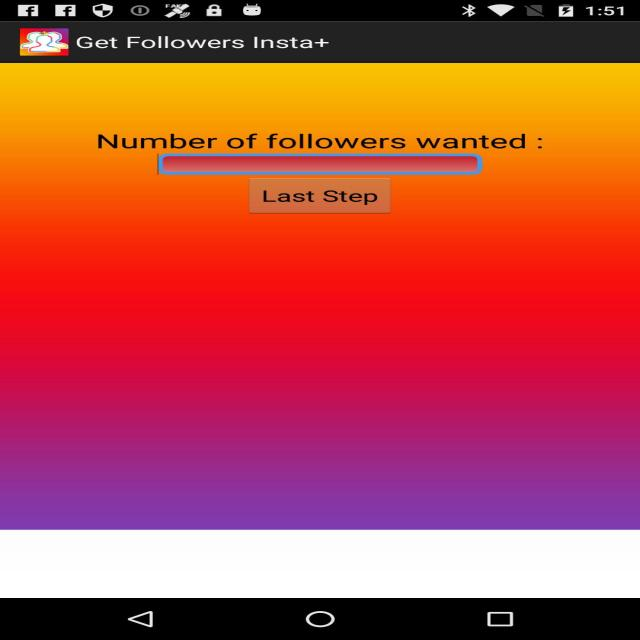button: (180, 182, 458, 236)
text: (67, 114, 621, 156)
